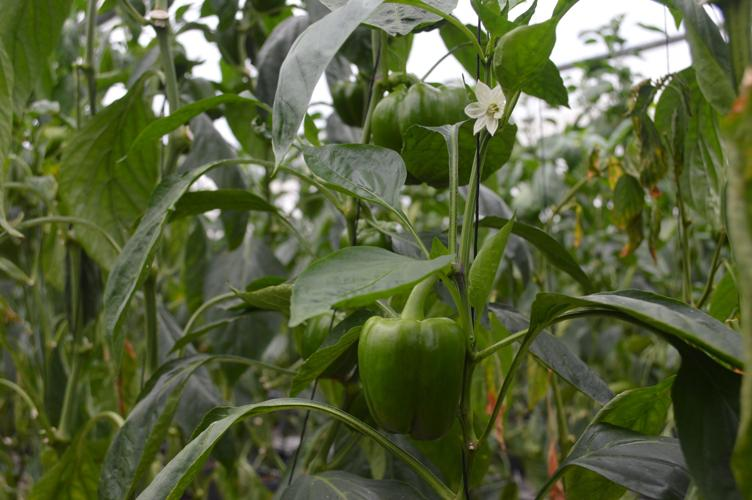BellPepper: (348, 312, 473, 460), (370, 76, 499, 186)
